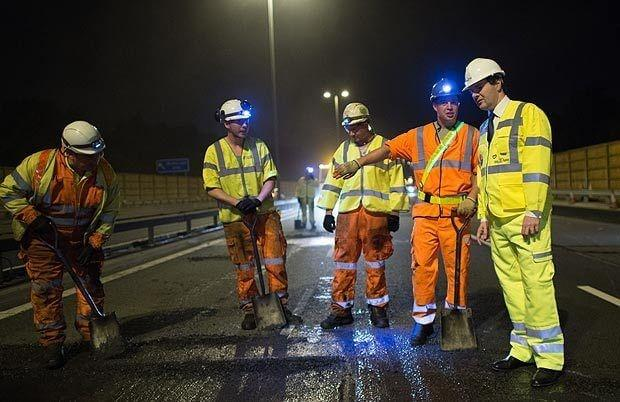Helmet: (59, 122, 107, 173), (462, 59, 506, 106)
Vest: (477, 108, 553, 218), (415, 122, 482, 212), (207, 138, 276, 215), (335, 138, 404, 214)
